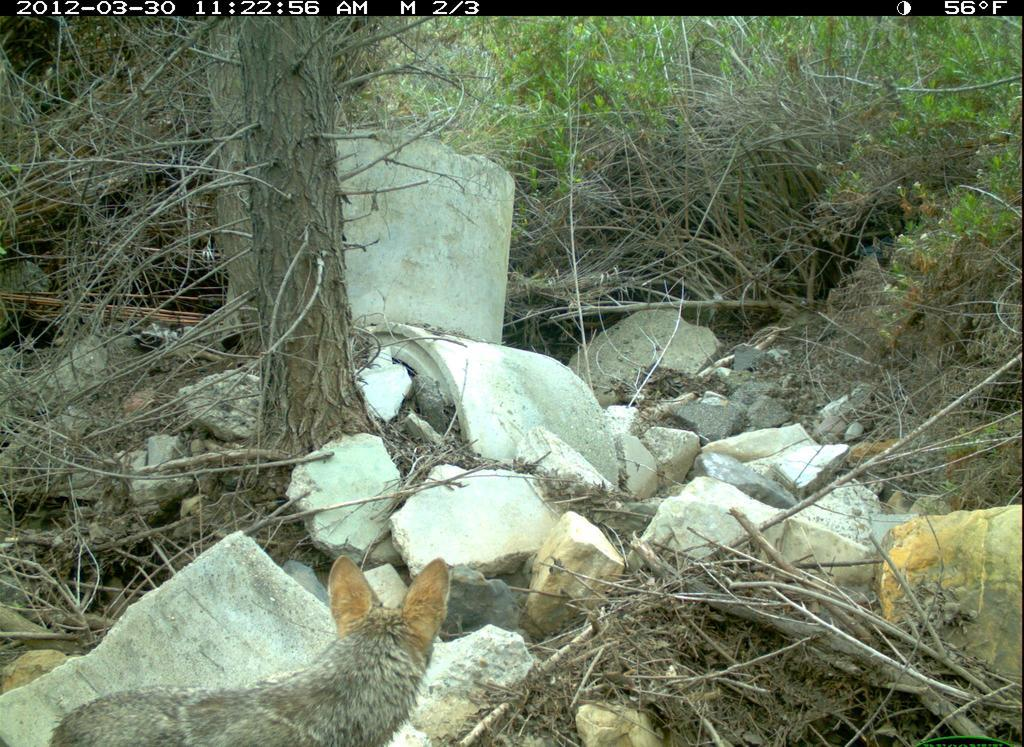coyote: (38, 543, 479, 747)
